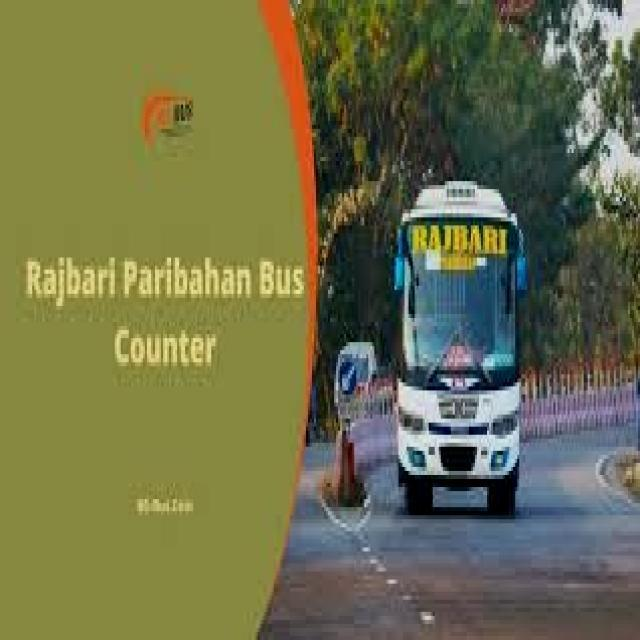Bus: (394, 159, 530, 532)
